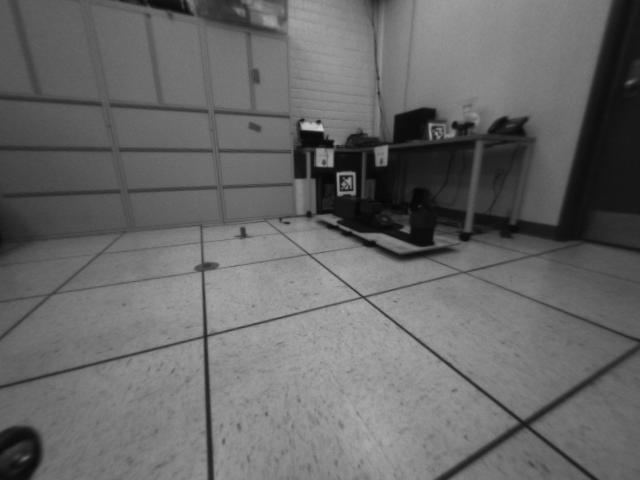X: (233, 226, 255, 240)
